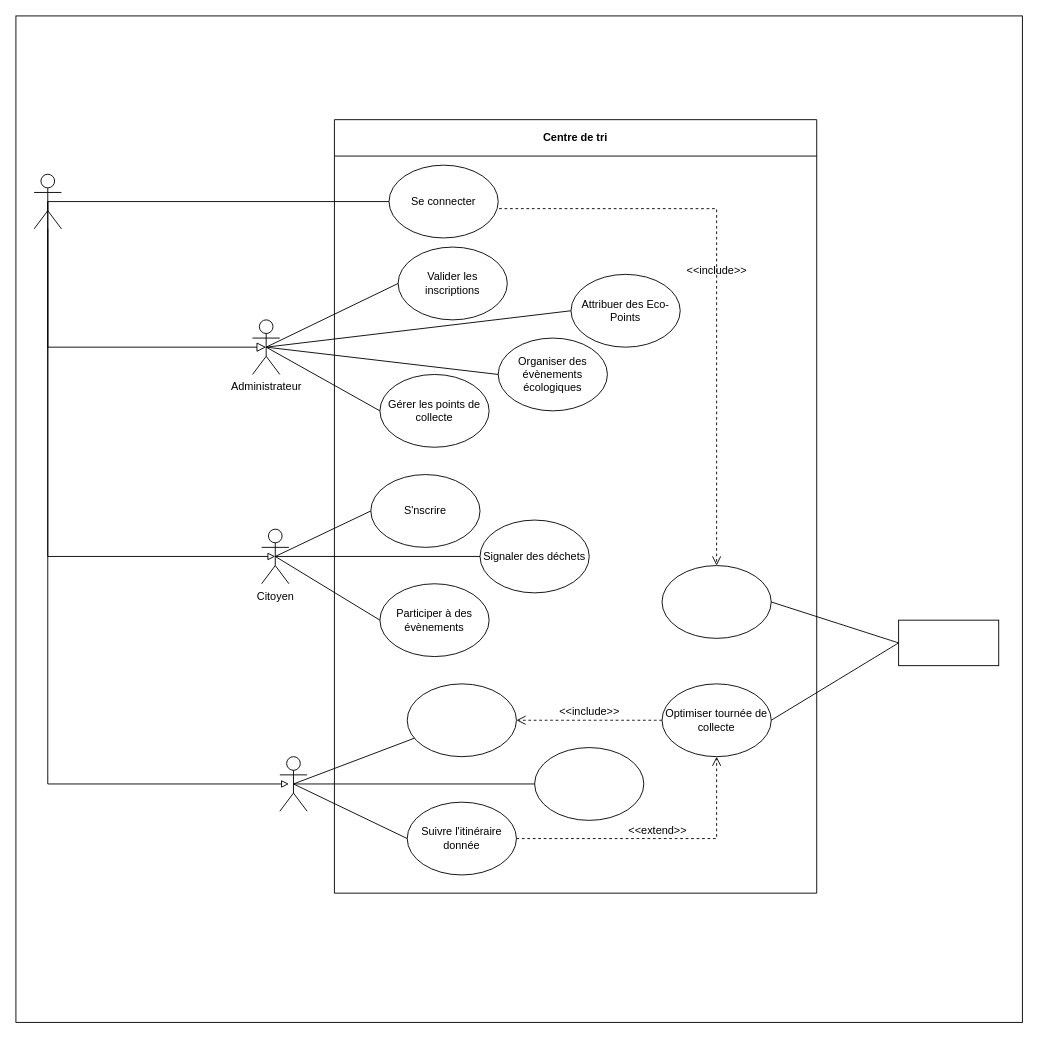
Some shapes in this 1038 by 1038 pixel diagram are drawn without their labels. Here are the shapes that lost their labels. From the top down, the box of each, then its label:
(33, 173, 61, 229): Utilisateur
(661, 565, 771, 638): Authentifier membres
(898, 619, 999, 666): «actor» SI gestion de déchets
(406, 683, 516, 757): Récupérer les déchets
(279, 756, 307, 811): Camioneur
(534, 747, 644, 820): Déclarer un refus de collecte
